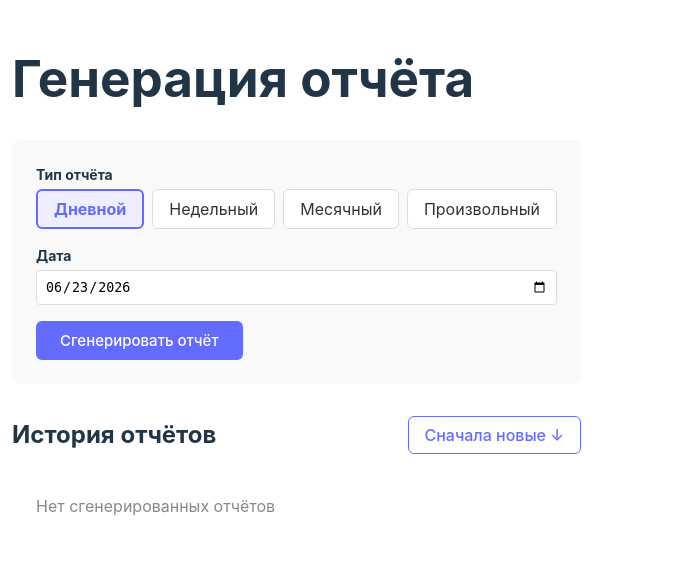
Scenario: ReportPage — LLM config error handling › shows generic error when backend returns other 4xx without violations
Step 1. Click the button "Сгенерировать отчёт" → (139,341), box [36, 322, 243, 360]
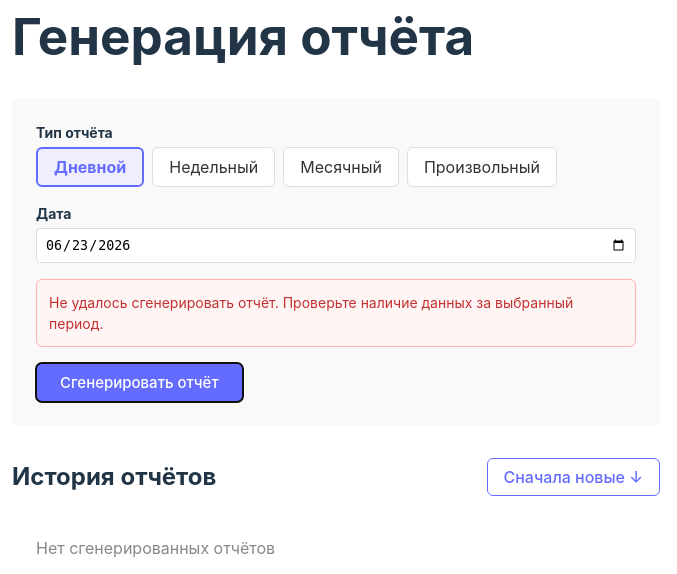
Now the text "Не удалось сгенерировать отчёт" is shown, box [49, 294, 573, 332]
